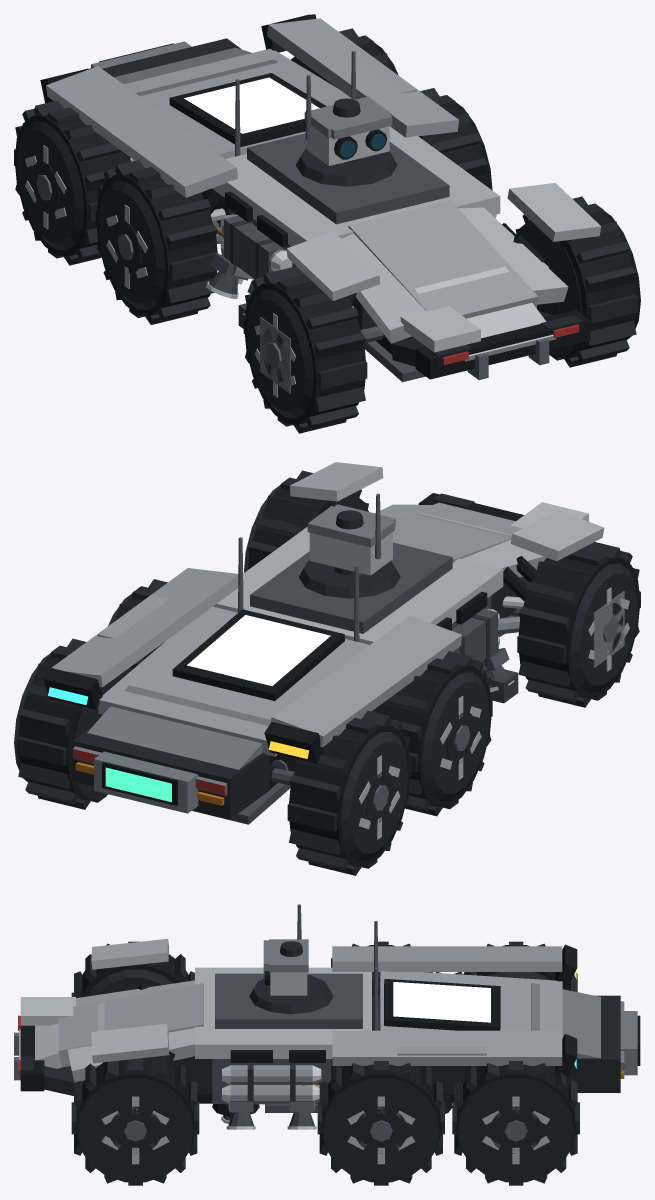
File: r47x_recon_rover_d0_lod0.meshopt.glb
3 renders of one model, top to bottom at view 1: azimuth 30°, elevation 25°; view 2: azimuth 150°, elevation 25°; view 3: azimuth 270°, elevation 25°, orthographic. The views are drawn at different scales.
Parts seen in each view (by area): view 1: ZONE_FRONT_BUMPER, CHASSIS_ARMOR_BODY, WHEEL_ML, WHEEL_FL, ZONE_FLANK_NEG_X, WHEEL_RL, WHEEL_FR, ZONE_FLANK_POS_X, ZONE_REAR_PANEL, DISPLAY_FDAI_TELEMETRY_PANEL, SENSOR_MAST_HEAD, WHEEL_MR (+7 smaller); view 2: CHASSIS_ARMOR_BODY, ZONE_REAR_PANEL, WHEEL_FL, WHEEL_RL, ZONE_FRONT_BUMPER, ZONE_FLANK_NEG_X, WHEEL_ML, ZONE_FLANK_POS_X, WHEEL_RR, DISPLAY_FDAI_TELEMETRY_PANEL, SENSOR_MAST_HEAD, WHEEL_FR (+10 smaller); view 3: CHASSIS_ARMOR_BODY, ZONE_FRONT_BUMPER, ZONE_FLANK_POS_X, WHEEL_FR, WHEEL_MR, WHEEL_RR, ZONE_REAR_PANEL, ZONE_FLANK_NEG_X, DISPLAY_FDAI_TELEMETRY_PANEL, WHEEL_FL, SENSOR_MAST_HEAD, DEBRIS_FRONT_BEAK (+5 smaller).
Boxes of the visible parts, left/top/right/bottom form: ZONE_FRONT_BUMPER: left=286, top=183, right=601, bottom=382; CHASSIS_ARMOR_BODY: left=123, top=48, right=500, bottom=354; WHEEL_ML: left=95, top=160, right=218, bottom=324; WHEEL_FL: left=243, top=266, right=367, bottom=433; ZONE_FLANK_NEG_X: left=40, top=66, right=295, bottom=279; WHEEL_RL: left=14, top=100, right=130, bottom=265; WHEEL_FR: left=515, top=196, right=640, bottom=367; ZONE_FLANK_POS_X: left=261, top=14, right=496, bottom=217; ZONE_REAR_PANEL: left=91, top=38, right=277, bottom=96; DISPLAY_FDAI_TELEMETRY_PANEL: left=184, top=77, right=319, bottom=133; SENSOR_MAST_HEAD: left=304, top=75, right=391, bottom=165; WHEEL_MR: left=419, top=88, right=492, bottom=190; CHASSIS_ARMOR_BODY: left=98, top=527, right=517, bottom=789; ZONE_REAR_PANEL: left=72, top=685, right=294, bottom=824; WHEEL_FL: left=517, top=541, right=640, bottom=707; WHEEL_RL: left=287, top=710, right=411, bottom=875; ZONE_FRONT_BUMPER: left=290, top=462, right=604, bottom=637; ZONE_FLANK_NEG_X: left=264, top=565, right=499, bottom=763; WHEEL_ML: left=375, top=651, right=492, bottom=816; ZONE_FLANK_POS_X: left=43, top=537, right=243, bottom=709; WHEEL_RR: left=14, top=638, right=132, bottom=809; DISPLAY_FDAI_TELEMETRY_PANEL: left=187, top=615, right=330, bottom=685; SENSOR_MAST_HEAD: left=307, top=493, right=394, bottom=576; WHEEL_FR: left=243, top=470, right=368, bottom=572; CHASSIS_ARMOR_BODY: left=171, top=967, right=562, bottom=1112; ZONE_FRONT_BUMPER: left=14, top=938, right=203, bottom=1095; ZONE_FLANK_POS_X: left=212, top=968, right=577, bottom=1116; WHEEL_FR: left=71, top=1055, right=199, bottom=1185; WHEEL_MR: left=317, top=1061, right=444, bottom=1185; WHEEL_RR: left=452, top=1061, right=579, bottom=1185; ZONE_REAR_PANEL: left=531, top=983, right=640, bottom=1092; ZONE_FLANK_NEG_X: left=332, top=921, right=577, bottom=987; DISPLAY_FDAI_TELEMETRY_PANEL: left=393, top=982, right=490, bottom=1022; WHEEL_FL: left=71, top=941, right=194, bottom=997; SENSOR_MAST_HEAD: left=263, top=904, right=308, bottom=995; DEBRIS_FRONT_BEAK: left=20, top=997, right=75, bottom=1025.
Bounding box in the file's own units: 2.43 × 1.69 × 4.74.
